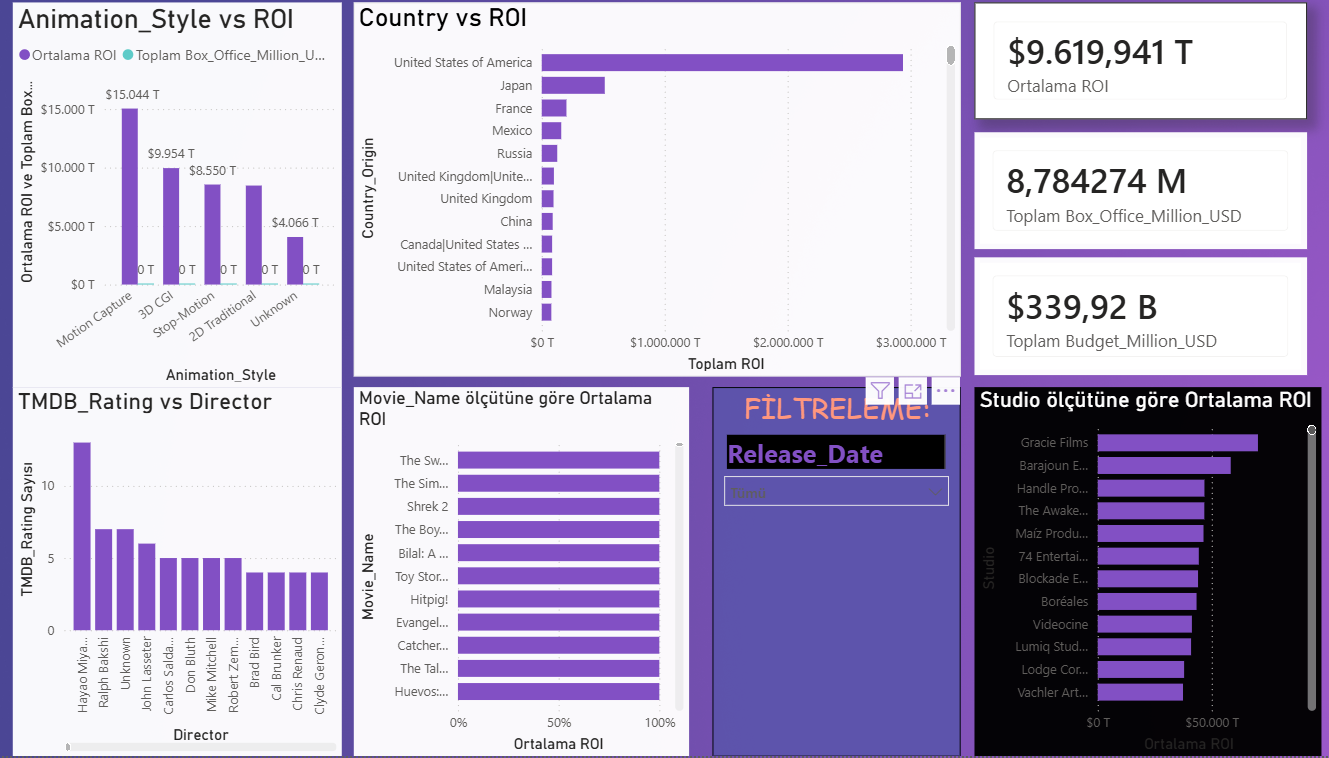

The page's visual inventory and layout, read from the dashboard file:
{"tool":"powerbi","page":{"name":"1. sayfa","canvas":[1280,720],"ordinal":0},"visuals":[{"type":"barChart","fields":{"Y":["Avg(pub?output=csv.ROI)"],"Category":["pub?output=csv.Studio"]},"box":[930,371.6,327.1,348.2],"z":0},{"type":"slicer","title":"FİLTRELEME:","fields":{"Values":["pub?output=csv.Release_Date"]},"box":[683,371.6,233.6,348.2],"z":1000},{"type":"columnChart","title":"TMDB_Rating vs Director","fields":{"Category":["pub?output=csv.Director"],"Y":["CountNonNull(pub?output=csv.TMDB_Rating)"]},"box":[23.4,371.6,310.4,348.2],"z":2000},{"type":"clusteredColumnChart","title":"Animation_Style vs ROI","fields":{"Category":["pub?output=csv.Animation_Style"],"Y":["Avg(pub?output=csv.ROI)","Sum(pub?output=csv.Box_Office_Million_USD)"]},"box":[23.4,8.9,310.4,362.7],"z":3000},{"type":"barChart","title":"Country vs ROI","fields":{"Category":["pub?output=csv.Country_Origin"],"Y":["Sum(pub?output=csv.ROI)"]},"box":[344.9,8.9,571.8,352.6],"z":4000},{"type":"hundredPercentStackedBarChart","fields":{"Category":["pub?output=csv.Movie_Name"],"Y":["Avg(pub?output=csv.ROI)"]},"box":[344.9,371.6,315.9,348.2],"z":5000},{"type":"cardVisual","fields":{"Data":["Avg(pub?output=csv.ROI)"]},"box":[930,8.9,313.7,110.1],"z":6000},{"type":"cardVisual","fields":{"Data":["Sum(pub?output=csv.Box_Office_Million_USD)"]},"box":[930,131.3,313.7,110.1],"z":7000},{"type":"cardVisual","fields":{"Data":["Sum(pub?output=csv.Budget_Million_USD)"]},"box":[930,249.2,313.7,111.2],"z":8000}]}

Visuals, with their boxes in screenshot pixels (x1, y1, x2, y2), scaled from the page's 1280x720 canvas onto the 1329x758 screenshot:
barChart - Avg(pub?output=csv.ROI) x pub?output=csv.Studio: <box>966,391,1305,757</box>
"FİLTRELEME:" slicer: <box>709,391,952,757</box>
"TMDB_Rating vs Director" columnChart: <box>24,391,347,757</box>
"Animation_Style vs ROI" clusteredColumnChart: <box>24,9,347,391</box>
"Country vs ROI" barChart: <box>358,9,952,381</box>
hundredPercentStackedBarChart - pub?output=csv.Movie_Name x Avg(pub?output=csv.ROI): <box>358,391,686,757</box>
cardVisual - Avg(pub?output=csv.ROI): <box>966,9,1291,125</box>
cardVisual - Sum(pub?output=csv.Box_Office_Million_USD): <box>966,138,1291,254</box>
cardVisual - Sum(pub?output=csv.Budget_Million_USD): <box>966,262,1291,379</box>
